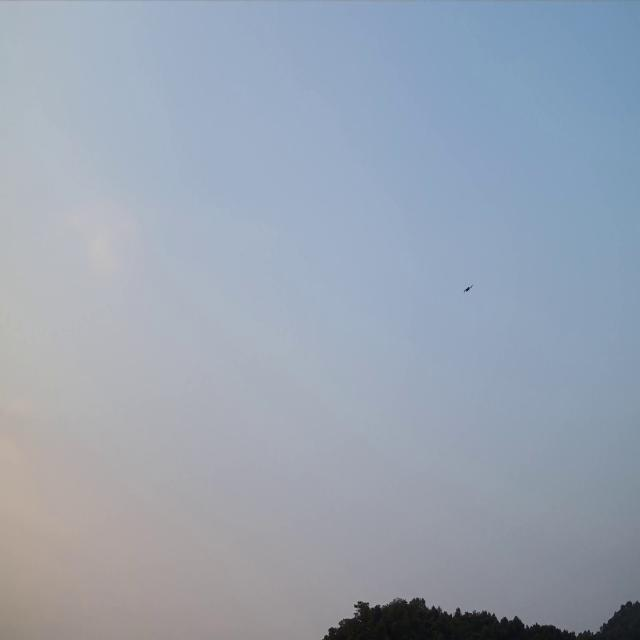UAV: (462, 283, 473, 294)
